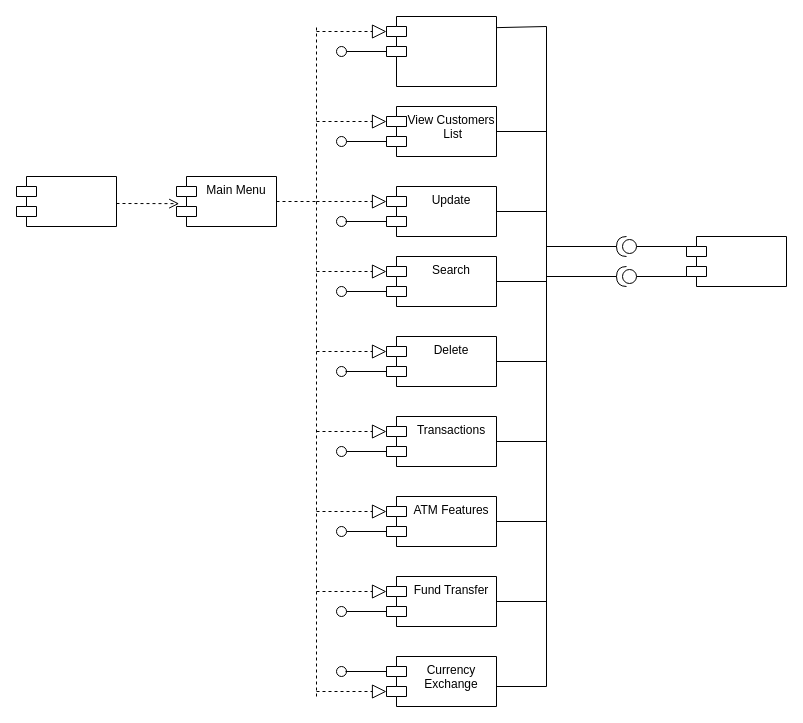
The diagram is 803 pixels wide and 723 high, and some of its shapes have lost their labels. Each missing label, with the box of its shape:
Create New Account: (386, 16, 496, 86)
Database: (686, 236, 786, 286)
USER: (16, 176, 116, 226)
